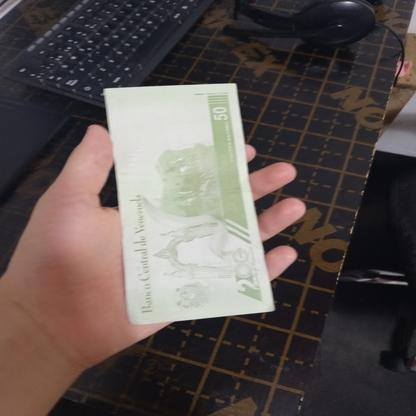fifty-back-vef: (104, 82, 276, 324)
